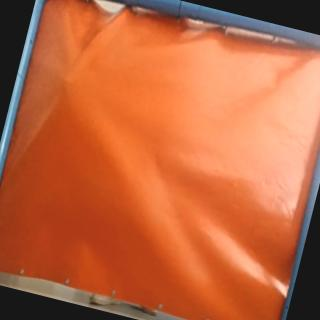Hit-hRxx: (57, 72, 75, 88)
